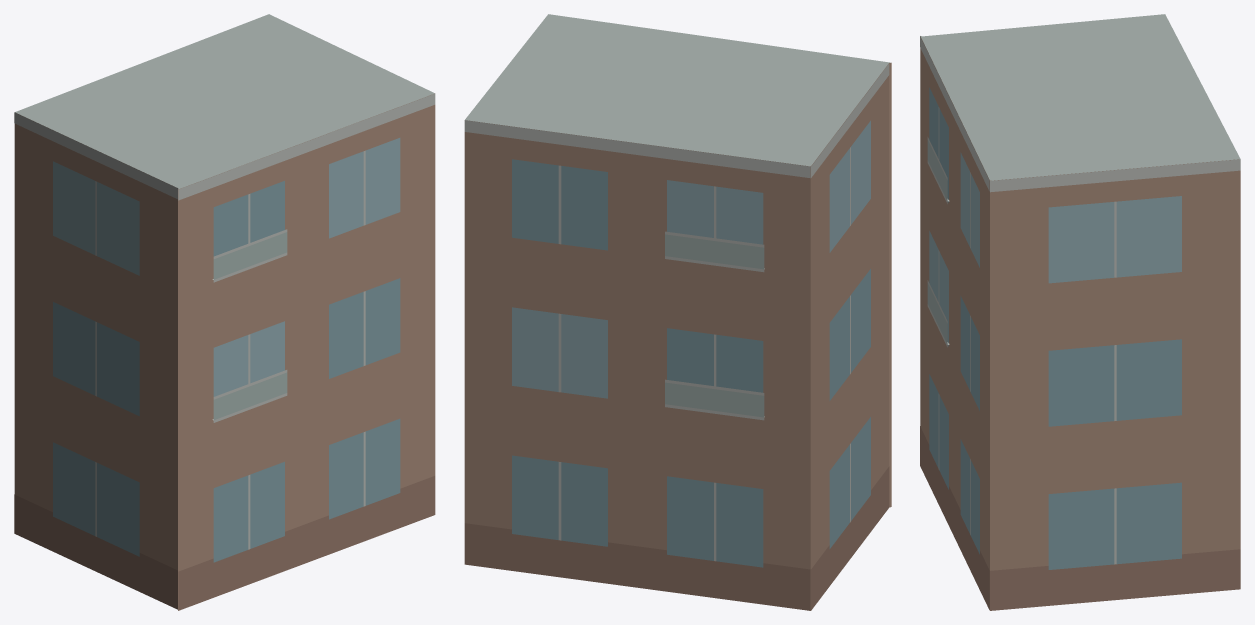
File: survey-upis-32958737.glb
The picture shows the model from 3 angles, left to right: view 1: azimuth 30°, elevation 25°; view 2: azimuth 150°, elevation 25°; view 3: azimuth 270°, elevation 25°; orthographic projection. The views are drawn at different scales.
Visible parts, largest first — view 1: survey-upis-32958737.tmp; view 2: survey-upis-32958737.tmp; view 3: survey-upis-32958737.tmp.
Part boxes in pixels (x1=…): survey-upis-32958737.tmp: x1=14, y1=14, x2=435, y2=610; survey-upis-32958737.tmp: x1=464, y1=14, x2=891, y2=610; survey-upis-32958737.tmp: x1=920, y1=14, x2=1240, y2=610.
Bounding box in the file's own units: 7.62 × 9.15 × 6.19.
